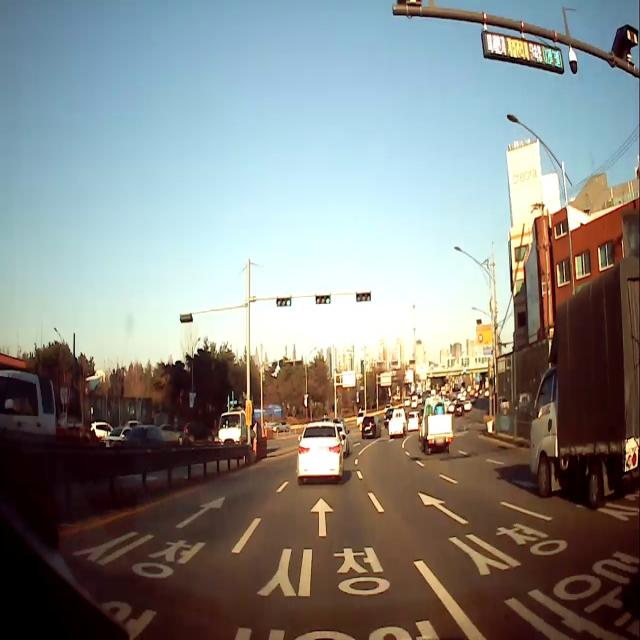Green Light: (286, 298, 291, 306), (325, 296, 330, 304), (367, 296, 370, 301)
